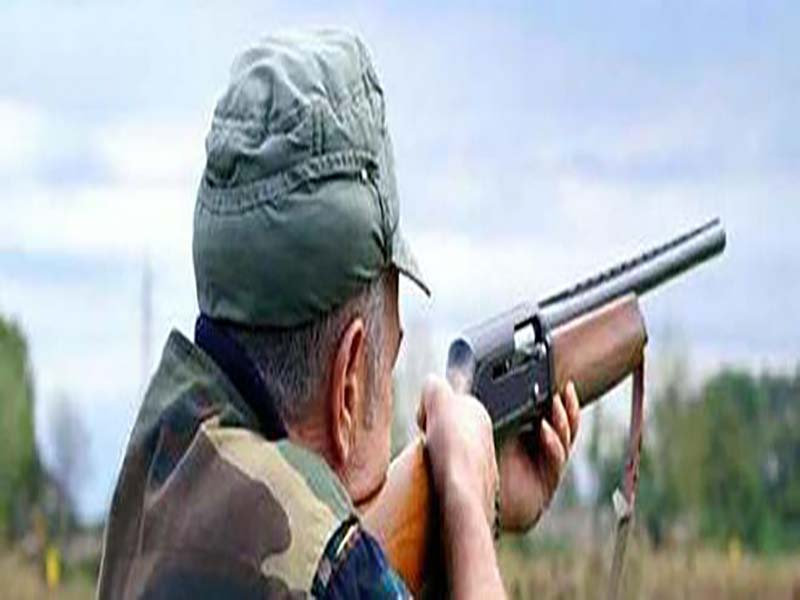cacciatore: (106, 19, 737, 600)
